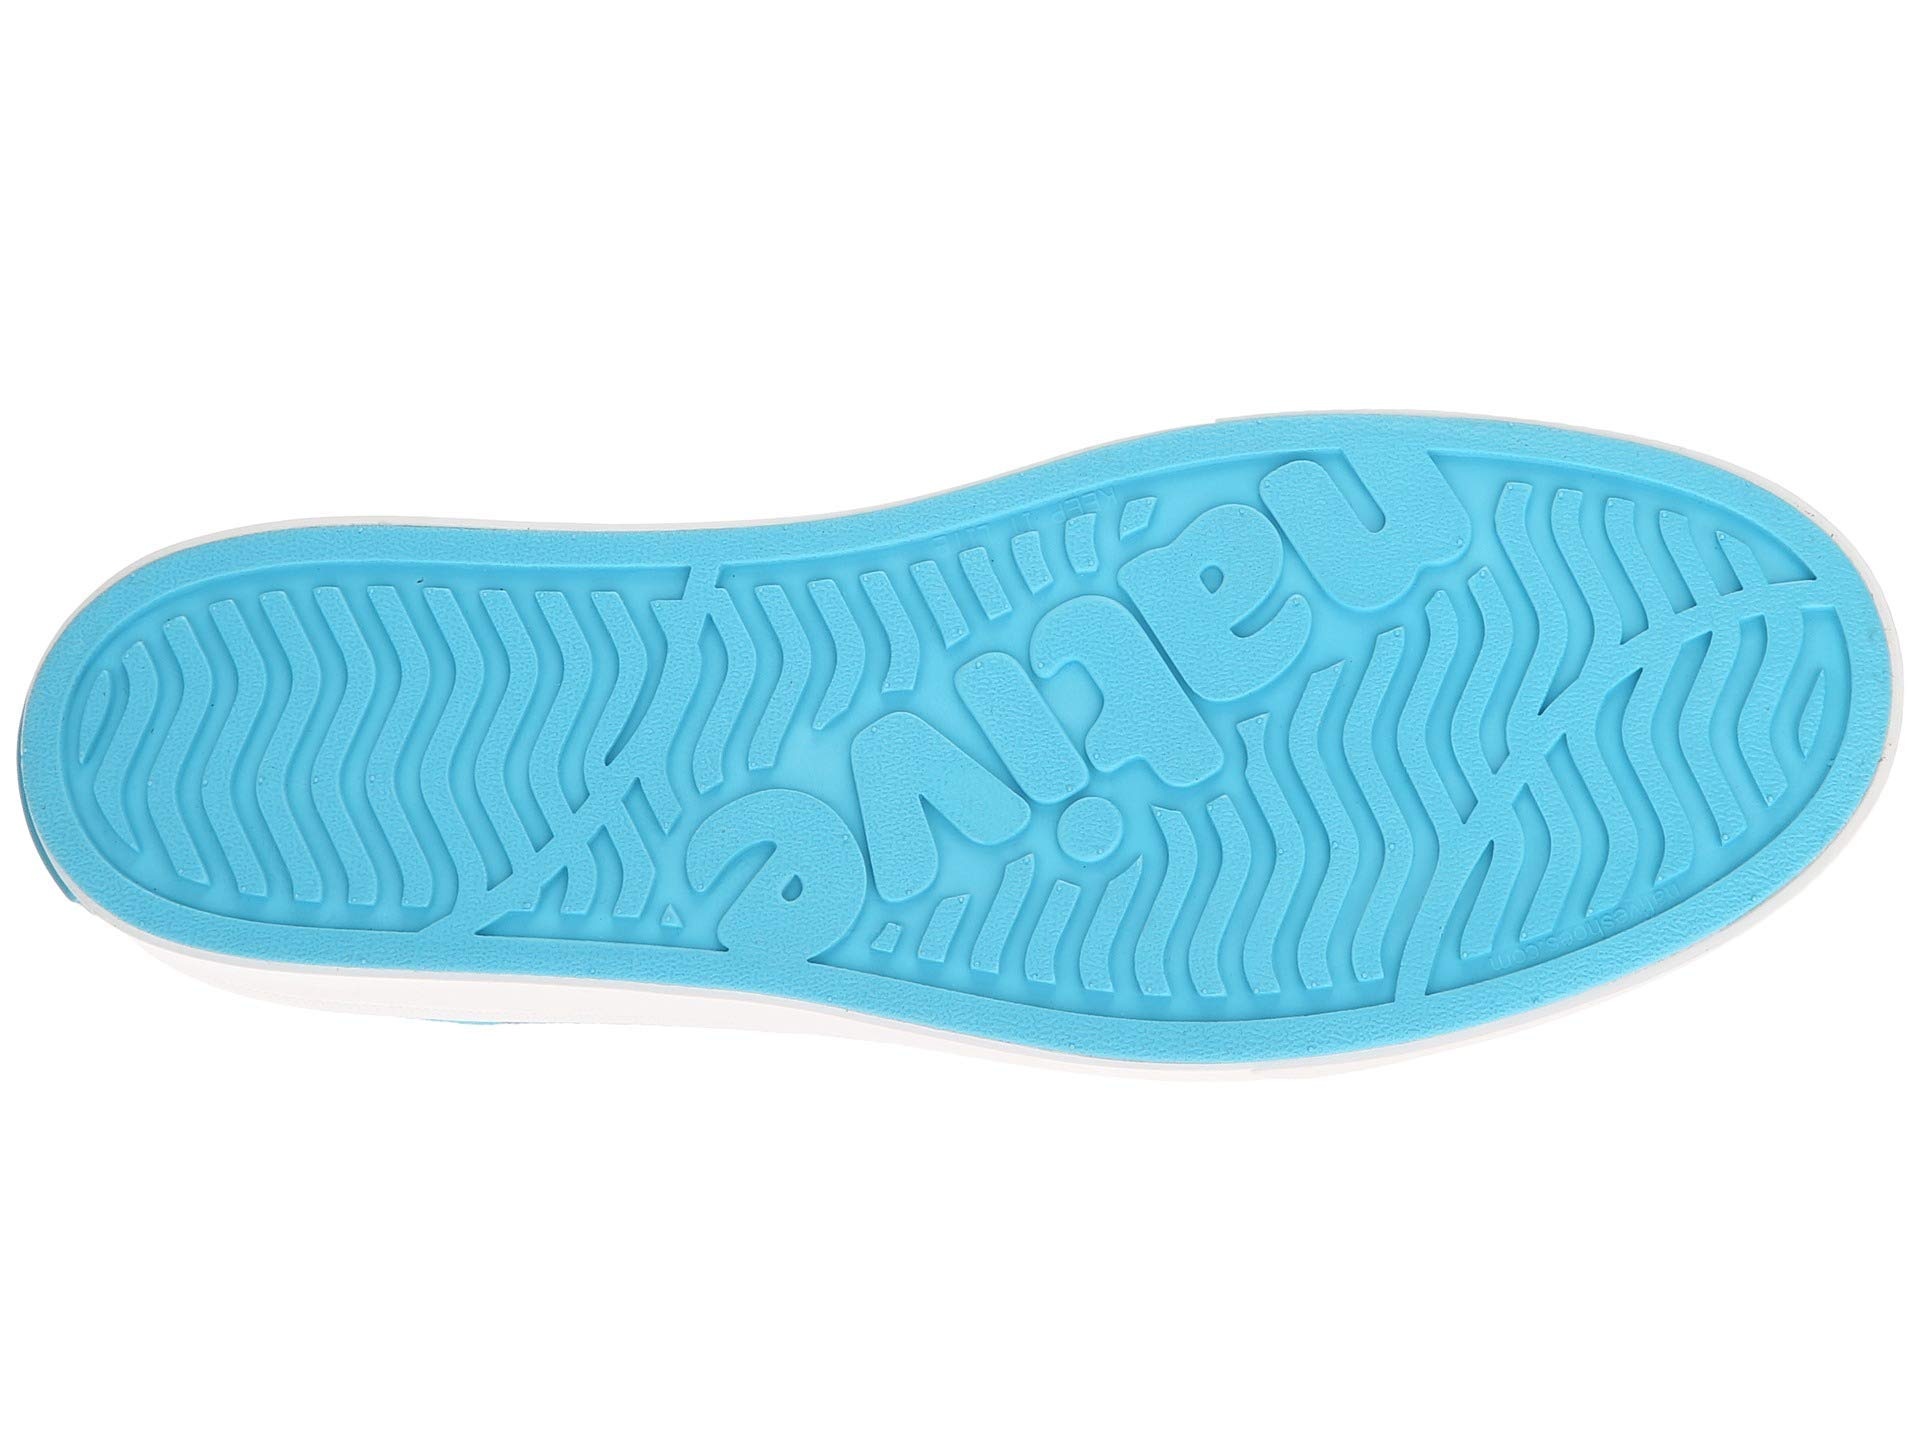chevron: (101, 625, 576, 864), (1219, 833, 1400, 1009), (1616, 684, 1804, 850)
